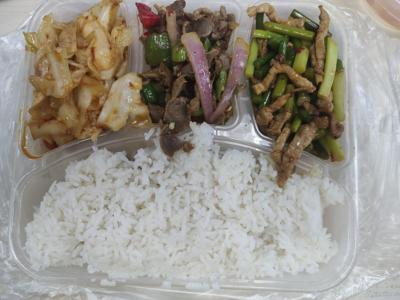rice: (27, 152, 334, 282)
st: (247, 6, 352, 170)
